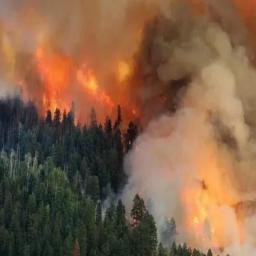Heavy smoke: (0, 1, 256, 256)
Large fire: (38, 66, 132, 131), (187, 186, 229, 238)
